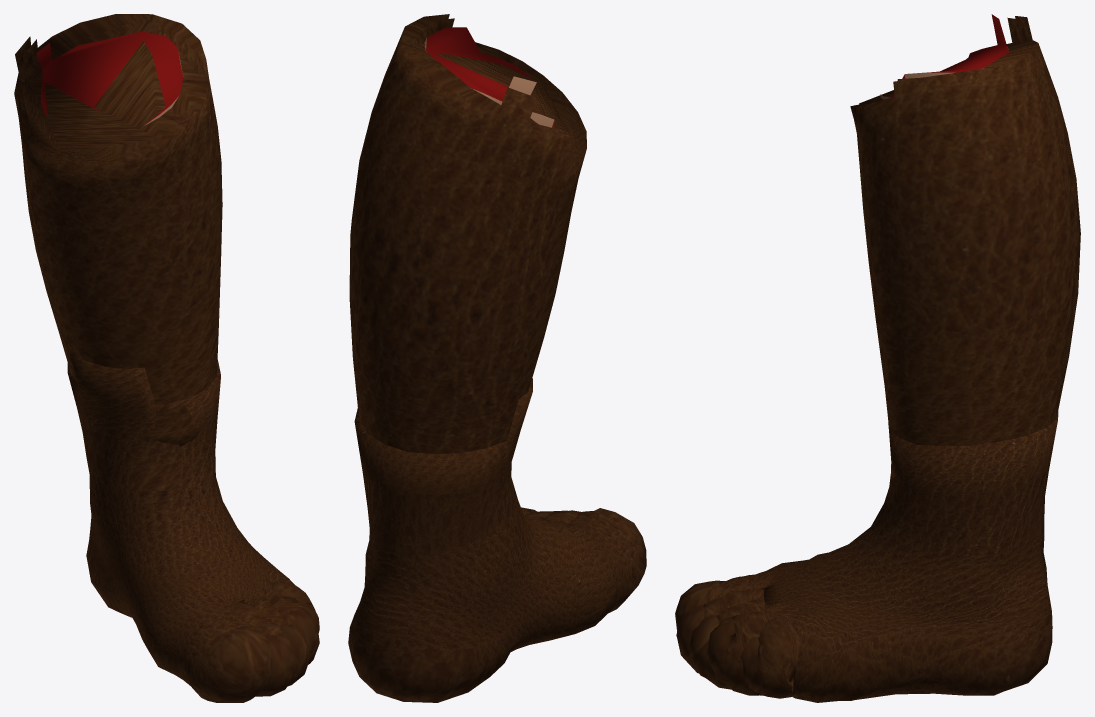
File: SM_Part_F2_leg_l.gltf
The picture shows the model from 3 angles, left to right: view 1: azimuth 30°, elevation 25°; view 2: azimuth 150°, elevation 25°; view 3: azimuth 270°, elevation 25°; orthographic projection. The views are drawn at different scales.
Parts seen in each view (by area): view 1: SM_Part_F2_leg_l; view 2: SM_Part_F2_leg_l; view 3: SM_Part_F2_leg_l.
Boxes of the visible parts, left/top/right/bottom form: SM_Part_F2_leg_l: left=14, top=14, right=319, bottom=702; SM_Part_F2_leg_l: left=348, top=14, right=646, bottom=702; SM_Part_F2_leg_l: left=675, top=14, right=1080, bottom=702.
Bounding box in the file's own units: 0.1681 × 0.4513 × 0.2659.
4 materials, 2 textured.
